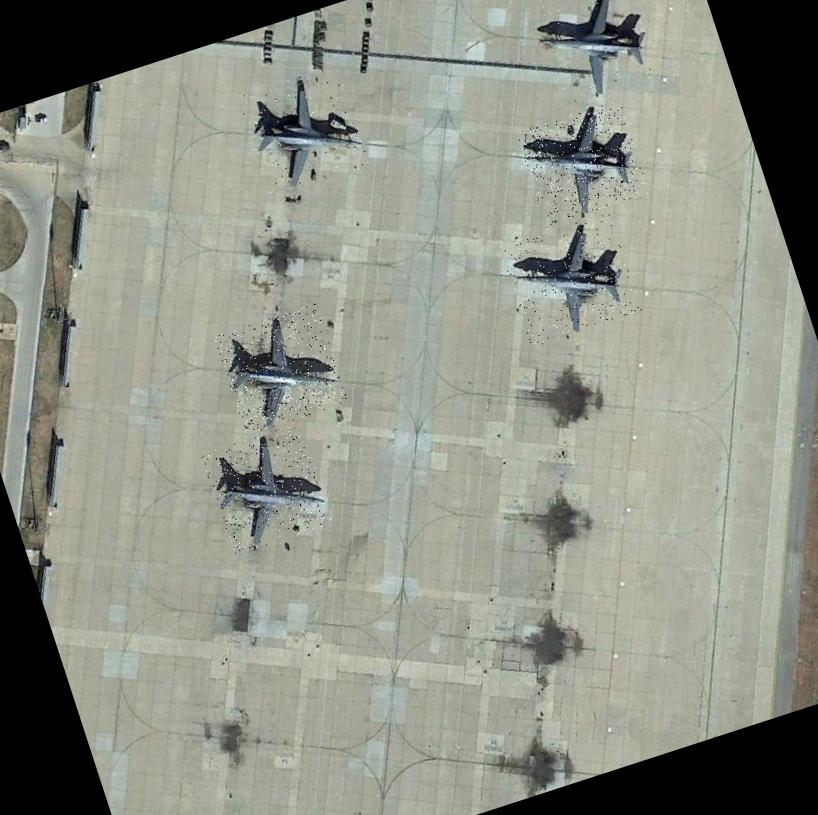A10: (499, 211, 643, 348), (236, 63, 370, 198), (200, 422, 333, 556), (213, 302, 348, 434), (515, 98, 649, 226), (529, 0, 660, 108)
